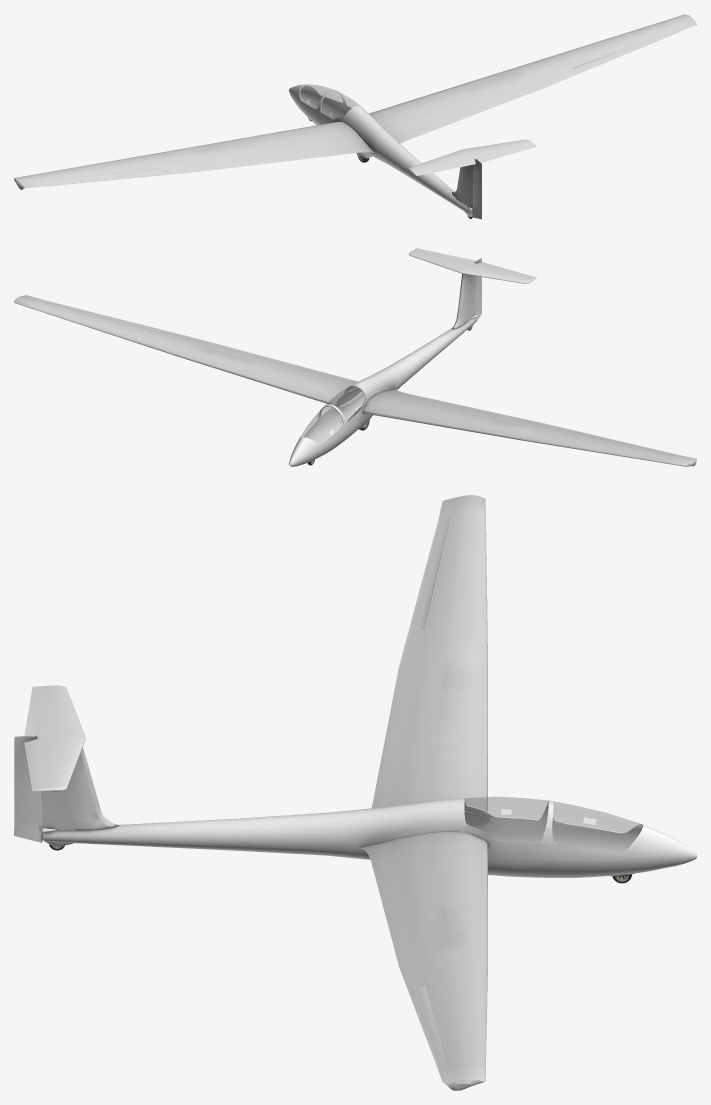
File: ask21.dae
The picture shows the model from 3 angles, top to bottom: view 1: azimuth 30°, elevation 25°; view 2: azimuth 150°, elevation 25°; view 3: azimuth 270°, elevation 25°; orthographic projection. The views are drawn at different scales.
Parts seen in each view (by area): view 1: fuselage, wing_R1, wing_L1, wing_R3, wing_R2, wing_L3, wing_L2, vstabilizer, aileronR, aileronL, windowR, hstabilizer (+3 smaller); view 2: fuselage, wing_R3, wing_R1, wing_L1, wing_L3, wing_R2, wing_L2, vstabilizer, windowF, hstabilizer, windowR, elevator; view 3: fuselage, wing_L3, wing_L1, wing_L2, wing_R1, wing_R3, wing_R2, vstabilizer, windowR, windowF, hstabilizer, rudder (+4 smaller).
Boxes of the visible parts, x1=… form: fuselage: x1=289, y1=84, x2=472, y2=215; wing_R1: x1=369, y1=90, x2=470, y2=143; wing_L1: x1=259, y1=121, x2=374, y2=161; wing_R3: x1=523, y1=20, x2=675, y2=86; wing_R2: x1=444, y1=65, x2=546, y2=115; wing_L3: x1=34, y1=149, x2=200, y2=181; wing_L2: x1=178, y1=135, x2=284, y2=171; vstabilizer: x1=409, y1=139, x2=533, y2=173; aileronR: x1=573, y1=27, x2=679, y2=74; aileronL: x1=42, y1=169, x2=164, y2=186; windowR: x1=321, y1=90, x2=360, y2=118; hstabilizer: x1=452, y1=164, x2=474, y2=214; fuselage: x1=289, y1=317, x2=477, y2=466; wing_R3: x1=32, y1=301, x2=199, y2=355; wing_R1: x1=255, y1=362, x2=362, y2=406; wing_L1: x1=362, y1=388, x2=470, y2=426; wing_L3: x1=521, y1=424, x2=675, y2=463; wing_R2: x1=176, y1=339, x2=283, y2=381; wing_L2: x1=442, y1=407, x2=545, y2=440; vstabilizer: x1=408, y1=249, x2=534, y2=283; windowF: x1=301, y1=406, x2=342, y2=444; hstabilizer: x1=452, y1=263, x2=476, y2=329; windowR: x1=322, y1=386, x2=365, y2=421; elevator: x1=414, y1=248, x2=536, y2=278; fuselage: x1=43, y1=798, x2=696, y2=877; wing_L3: x1=399, y1=513, x2=487, y2=666; wing_L1: x1=372, y1=732, x2=487, y2=826; wing_L2: x1=383, y1=654, x2=487, y2=746; wing_R1: x1=357, y1=832, x2=487, y2=908; wing_R3: x1=399, y1=954, x2=487, y2=1066; wing_R2: x1=383, y1=894, x2=487, y2=966; vstabilizer: x1=41, y1=685, x2=85, y2=791; windowR: x1=464, y1=797, x2=548, y2=842; windowF: x1=552, y1=801, x2=642, y2=850; hstabilizer: x1=41, y1=747, x2=119, y2=837; rudder: x1=14, y1=735, x2=43, y2=842.
Size of the model in its own units: 16.91 by 8.33 by 2.06.
Materials: 4 (2 with a texture image).
